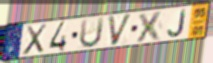4: (48, 20, 69, 53)
J: (166, 8, 188, 38)
U: (78, 16, 106, 50)
V: (107, 13, 133, 48)
X: (134, 10, 166, 44), (21, 22, 49, 57)
